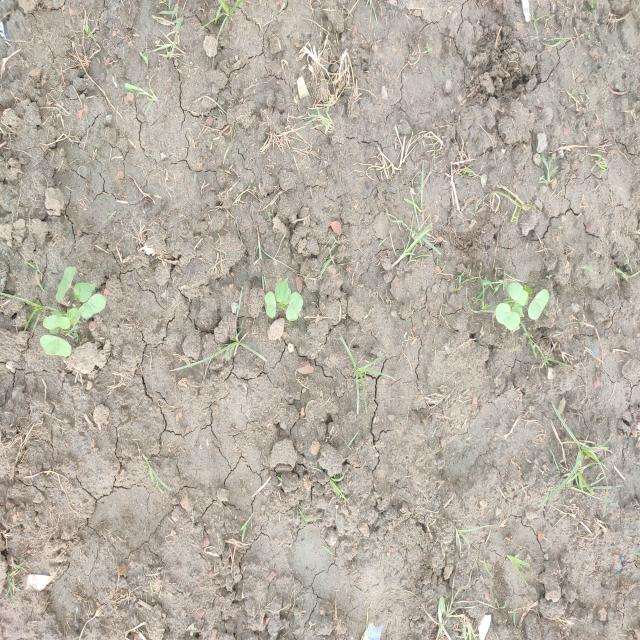seedling_s4: (39, 335, 71, 357), (56, 266, 76, 301), (80, 293, 106, 318), (496, 303, 520, 330), (528, 289, 549, 319), (286, 292, 304, 320), (508, 283, 528, 305), (74, 283, 97, 302), (275, 277, 291, 303), (43, 315, 71, 329), (264, 292, 277, 318), (67, 307, 81, 324), (511, 303, 524, 317)
